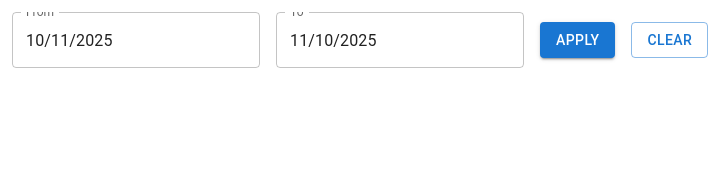
Test: DateRangeFilter Component › apply button sets date params in URL
This screenshot has width=725, height=172.
Click the button "Apply" at (578, 40), box [540,22,615,58]
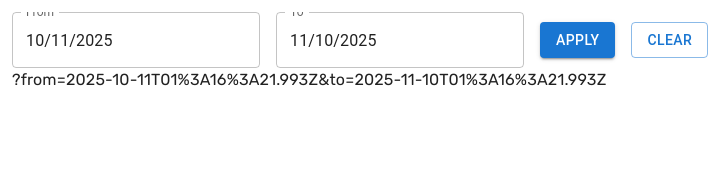
Expected: the text with test id "location-search" shows "from", [12,70,606,89]
Expected: the text with test id "location-search" shows "to", [12,70,606,89]
